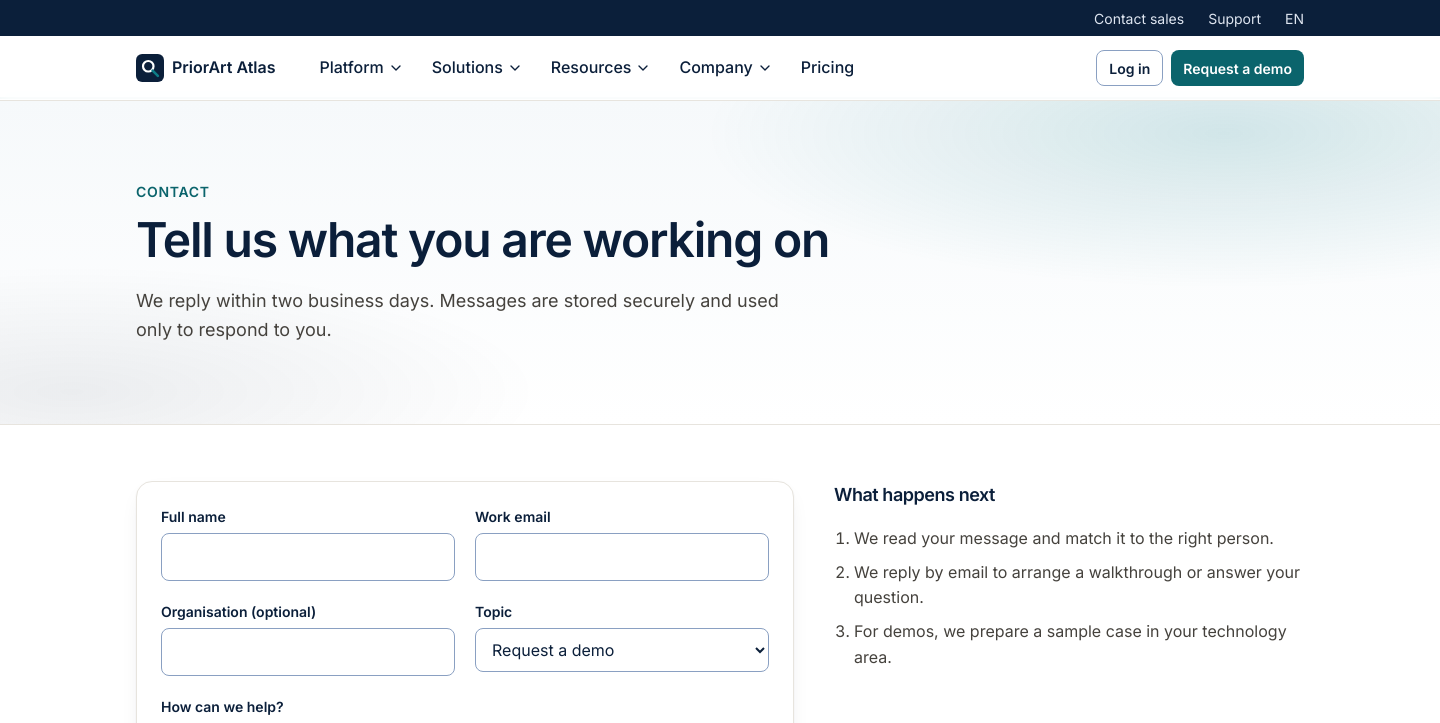
Test: contact form › explains a rate-limit response and keeps the typed message
This screenshot has width=1440, height=723.
In the field labelled "Full name": (308, 557) [161,533,455,581], type "Dana Whitfield"
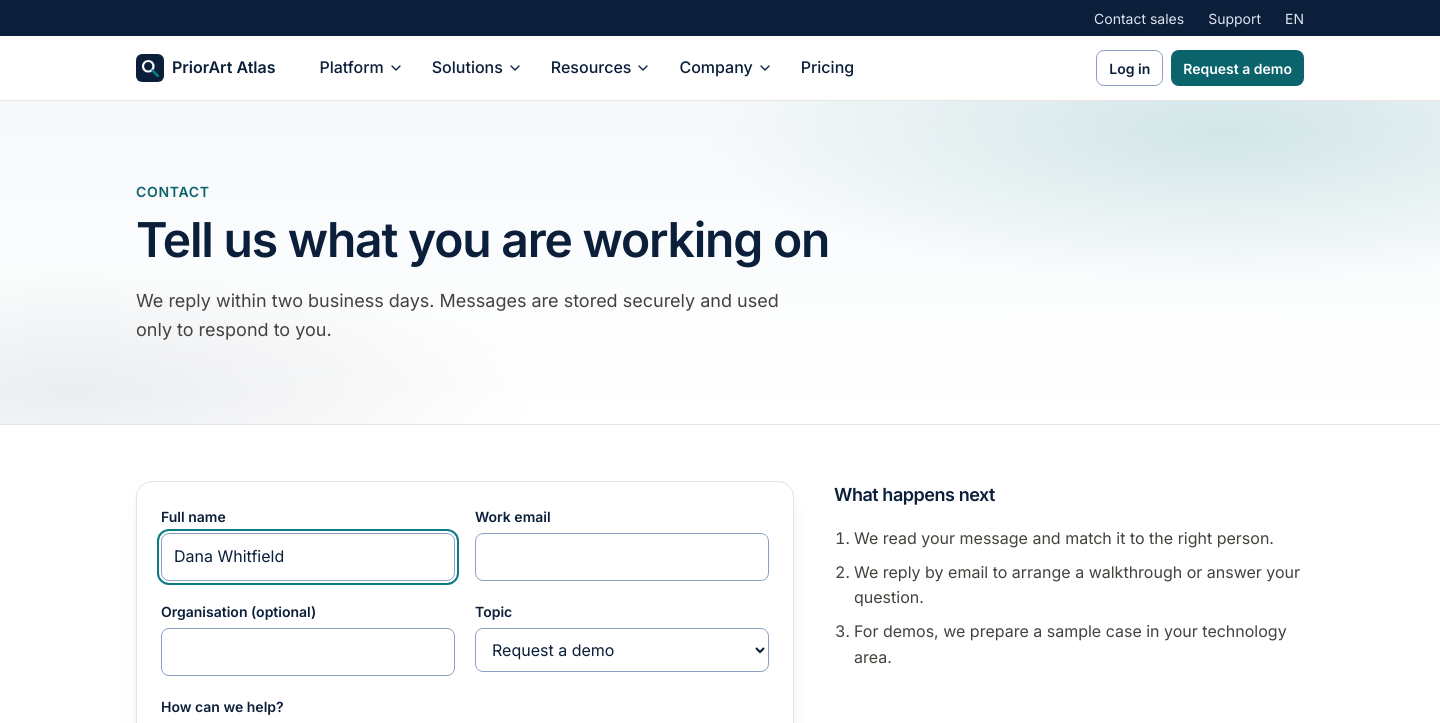
In the field labelled "Work email": (622, 557) [475,533,769,581], type "dana@example.com"
(page scrolled)
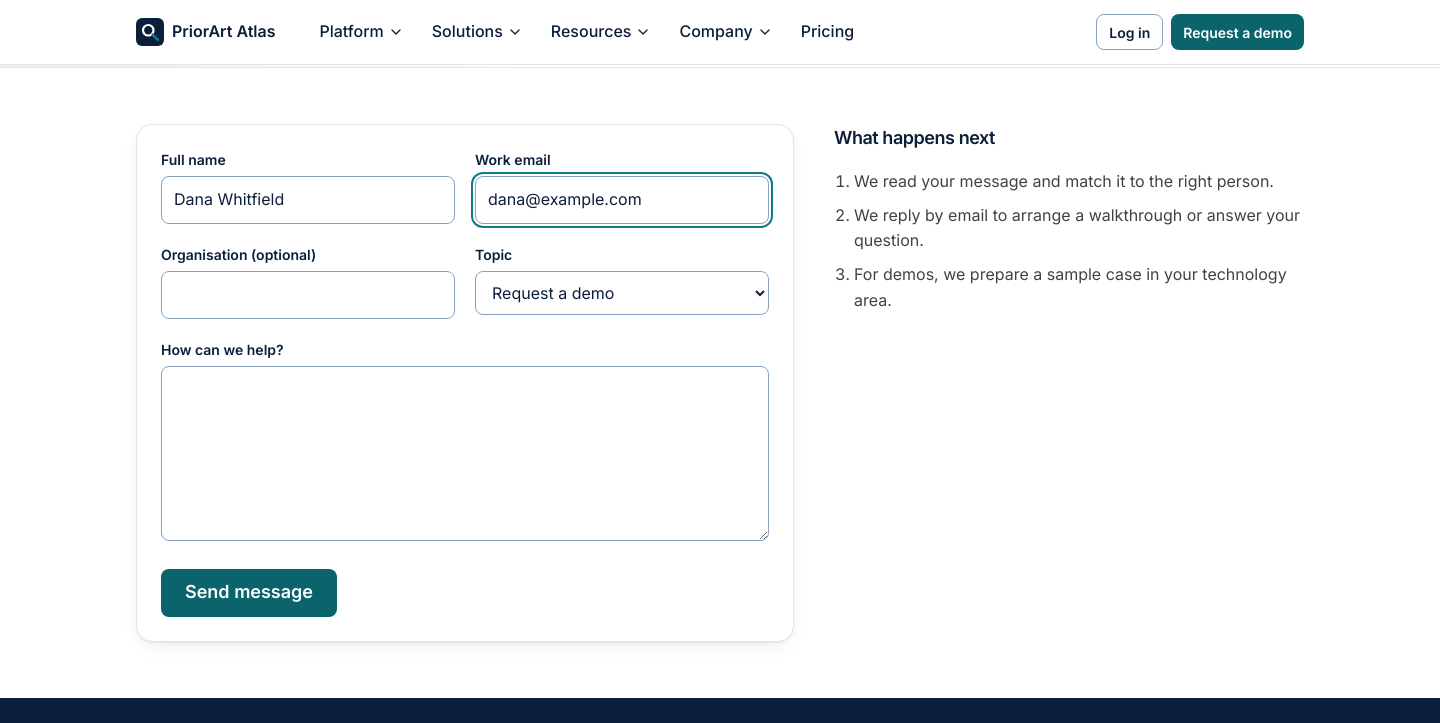
In the text box labelled "How can we help?": (465, 453) [161,366,769,541], type "We would like a walkthrough for our team."
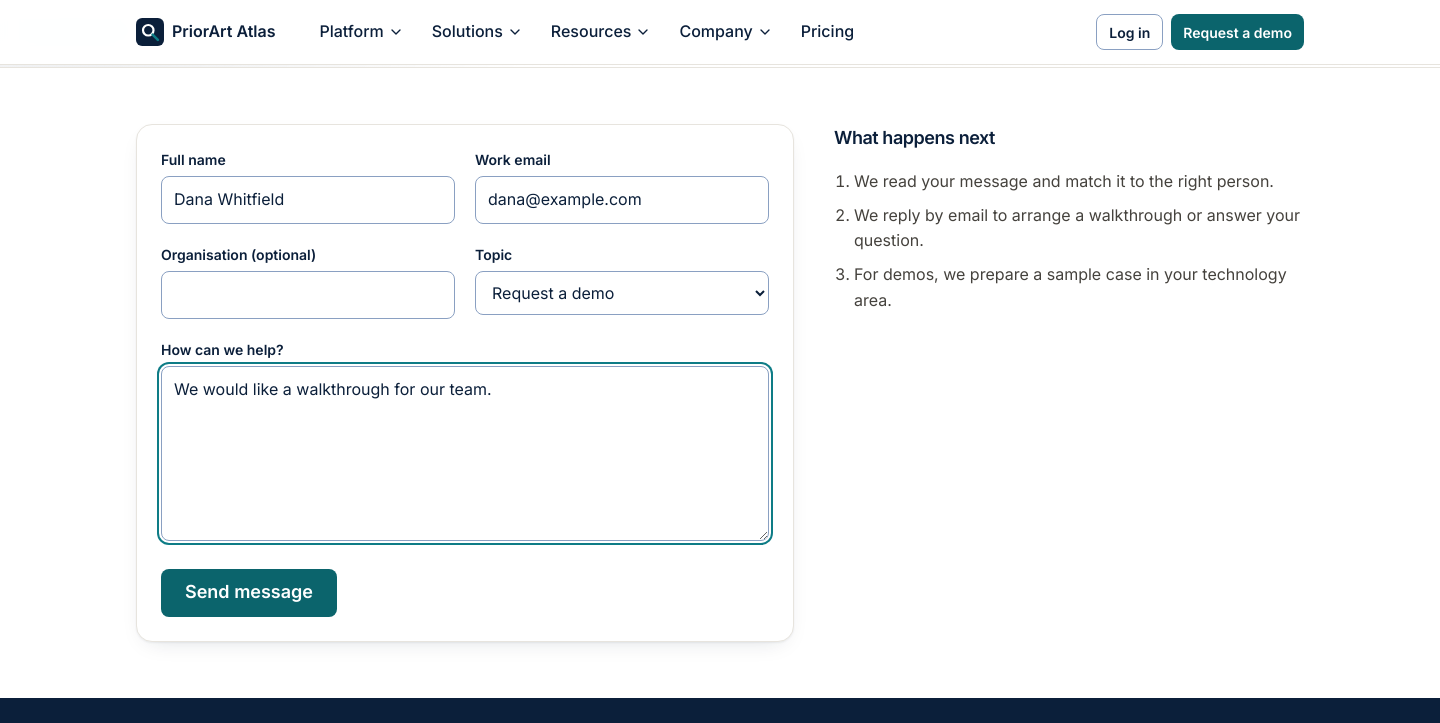
Click the button "Send message": (249, 593) [161,569,337,617]
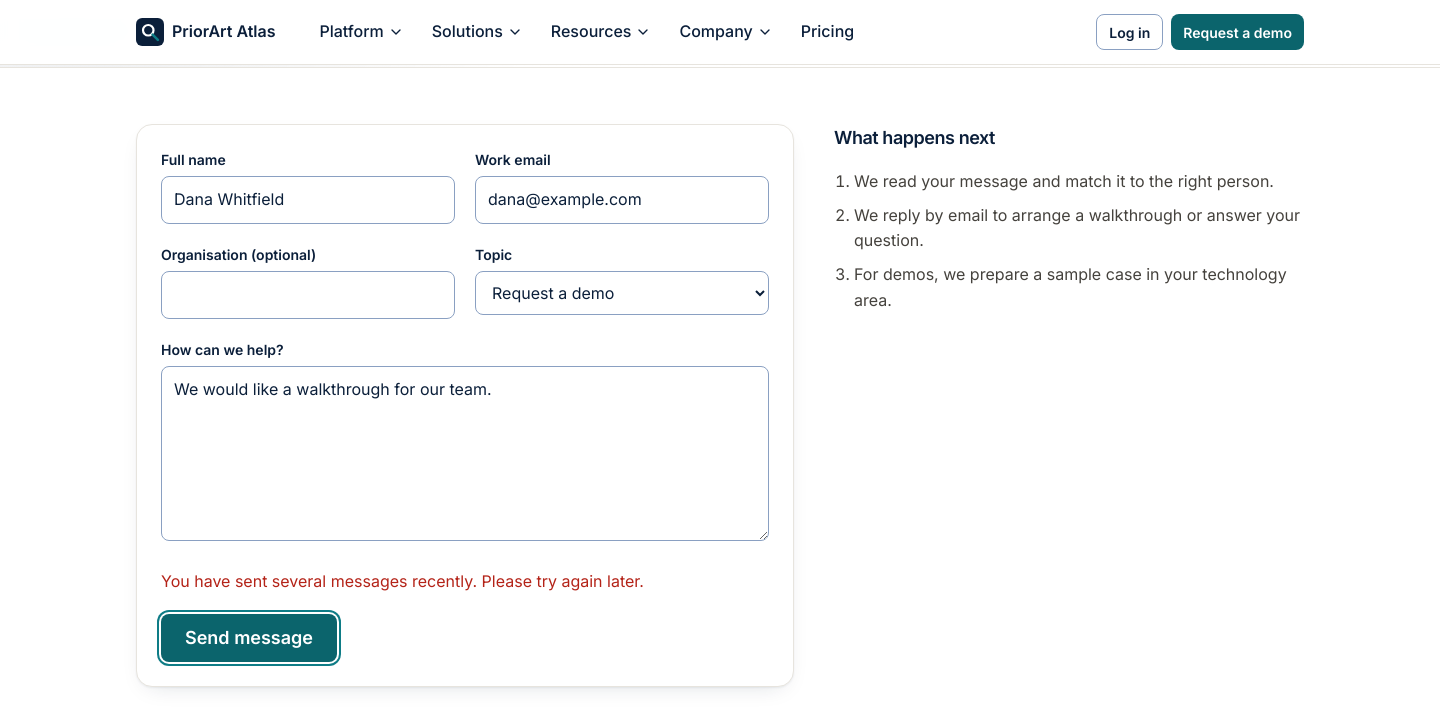
Check: the text "You have sent several messages recently. Please try again later." is shown, box [161,571,644,591]
